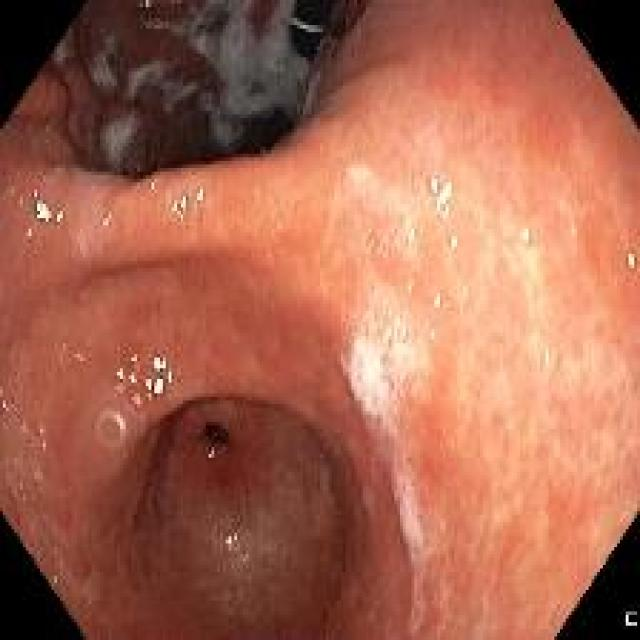bubbles: (350, 295, 421, 444), (392, 449, 436, 626), (97, 112, 148, 175), (94, 410, 125, 455), (363, 226, 397, 266), (171, 189, 196, 223), (623, 245, 639, 275), (426, 167, 439, 197), (223, 533, 239, 555), (238, 551, 250, 566), (435, 585, 442, 604)
contrast: (98, 13, 314, 162)
saturation: (343, 166, 555, 484)
specularity: (17, 182, 67, 237), (144, 355, 176, 397), (436, 177, 454, 216), (437, 229, 464, 253), (519, 223, 541, 251), (427, 286, 446, 312), (539, 342, 555, 372), (400, 276, 418, 295), (426, 319, 437, 347), (455, 278, 466, 302), (113, 367, 126, 384), (626, 252, 635, 271), (406, 228, 416, 243), (430, 175, 438, 193), (197, 186, 204, 205), (128, 374, 138, 385), (102, 216, 111, 227), (180, 194, 186, 210), (172, 201, 178, 214), (224, 538, 233, 546), (403, 216, 409, 227), (403, 324, 408, 337), (130, 354, 138, 362), (150, 180, 156, 190), (208, 451, 213, 461)
